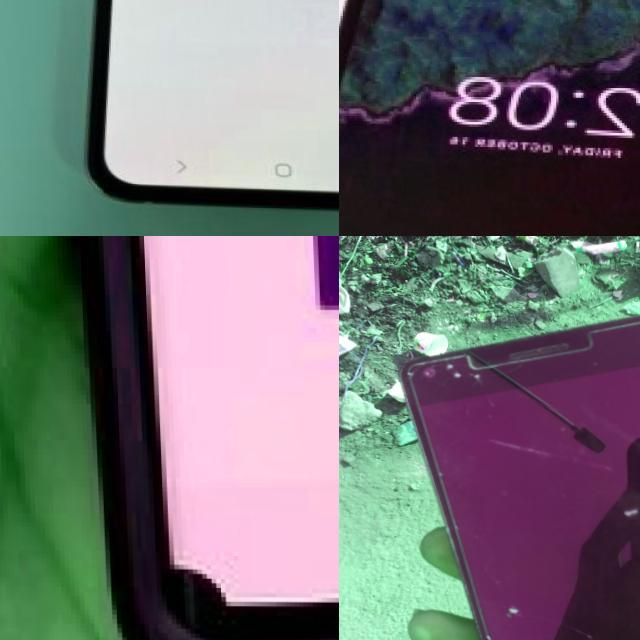dead pixel: (126, 507, 296, 640)
screen crack: (405, 357, 640, 519), (465, 569, 504, 640)
